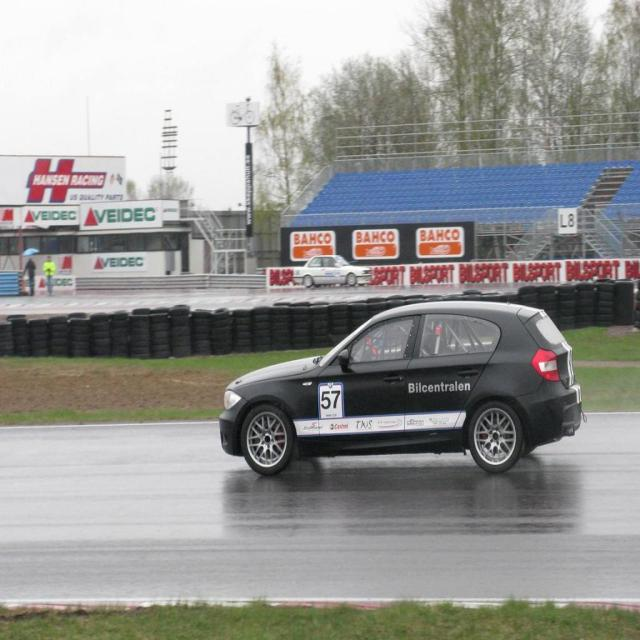car: (214, 297, 587, 473), (291, 248, 376, 289)
